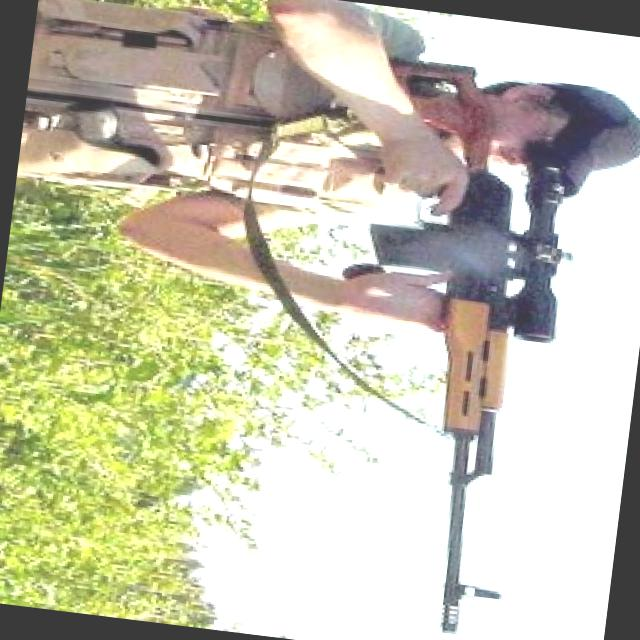long weapon: (286, 41, 609, 639)
